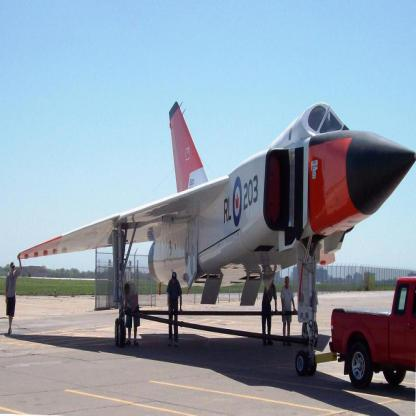Truck: (329, 276, 415, 388)
